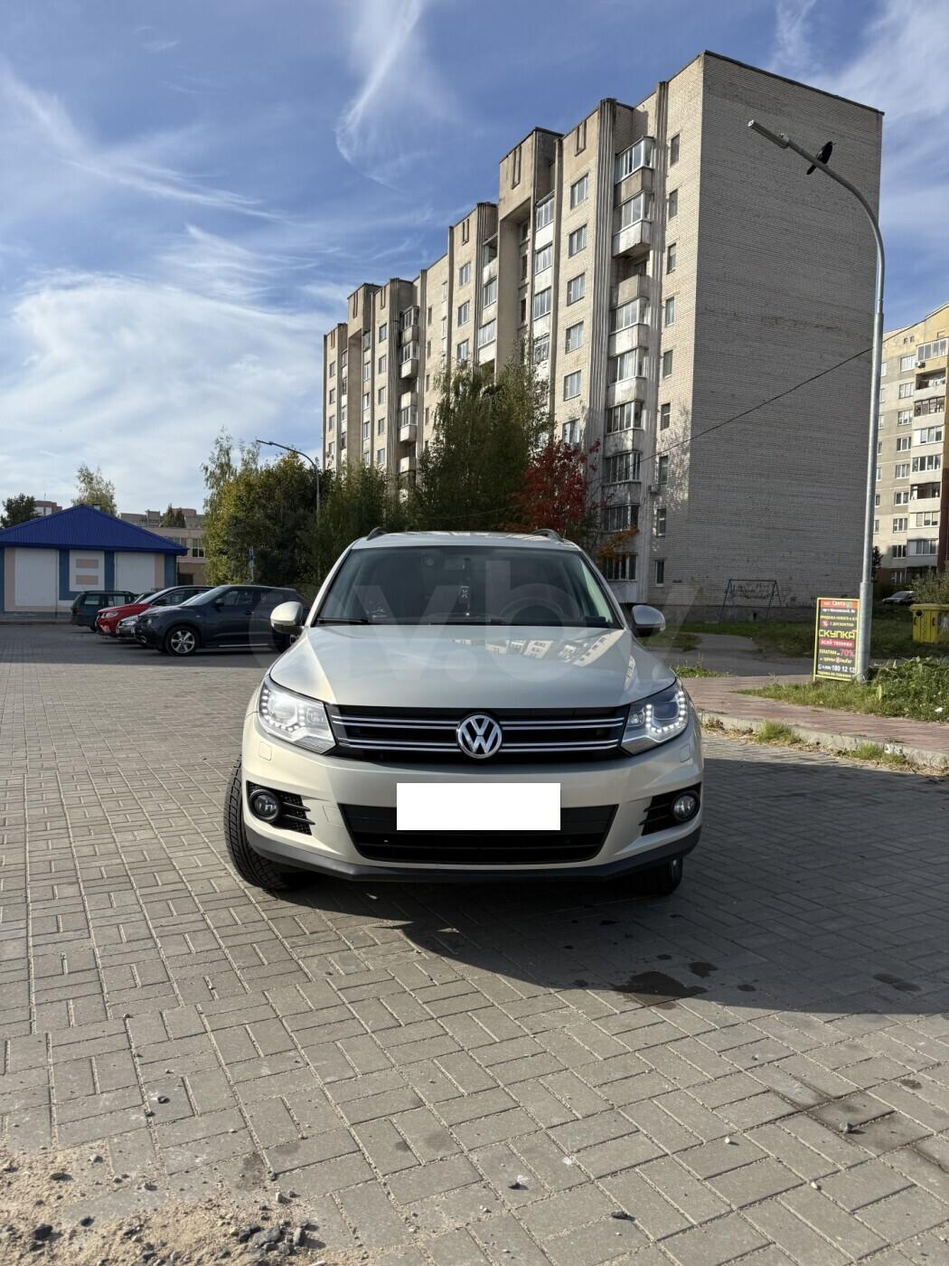Tiguan_2011-2018: (224, 521, 707, 921)
